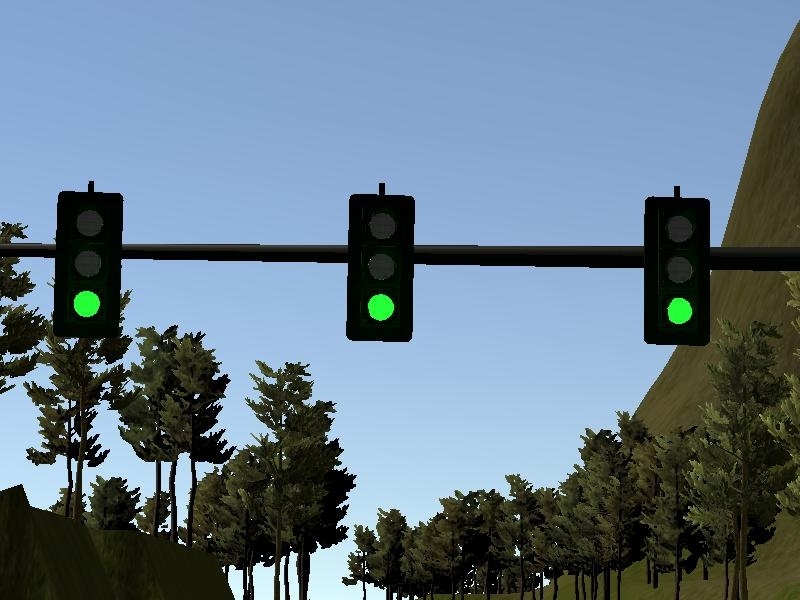traffic_light_green: (36, 183, 775, 344)
